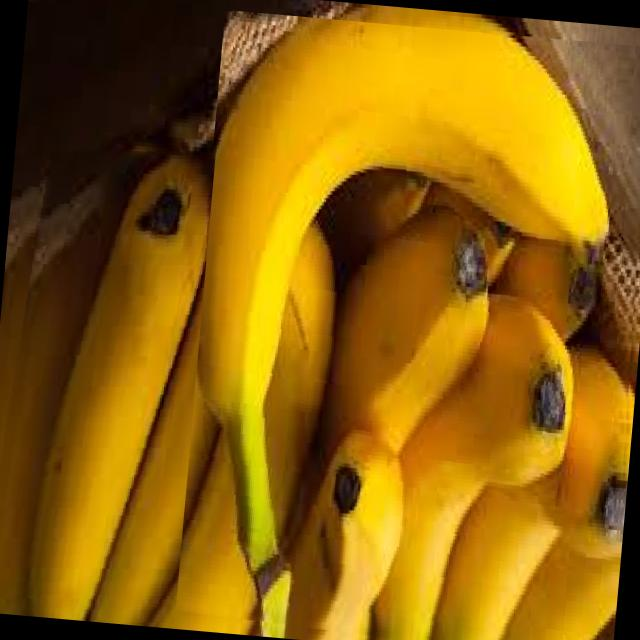Organic: (169, 8, 640, 640), (0, 129, 214, 628)
